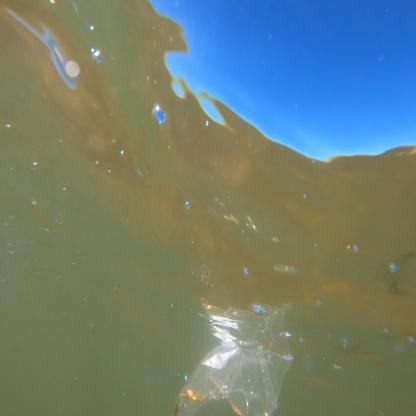Rác: (165, 337, 295, 415)
